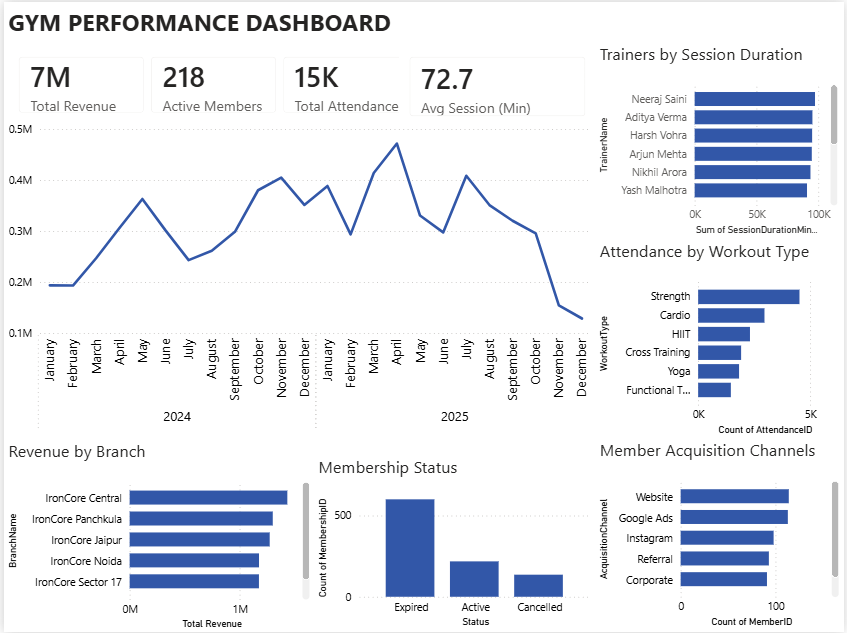

This screenshot's page, from the dashboard's own definition file:
{"tool":"powerbi","page":{"name":"Page 1","canvas":[960,720],"ordinal":0},"visuals":[{"type":"cardVisual","fields":{"Data":["tblAttendance.Total Revenue","tblAttendance.Active Members","tblAttendance.Total Attendance"]},"box":[0,46,479,98],"z":0},{"type":"lineChart","fields":{"Category":["tblCalendar.Year","tblCalendar.Month"],"Y":["tblAttendance.Total Revenue"]},"box":[0,132,676.3,367.2],"z":1000},{"type":"clusteredBarChart","title":"Revenue by Branch","fields":{"Category":["tblBranches.BranchName"],"Y":["tblAttendance.Total Revenue"]},"box":[0,499.8,354.3,221.6],"z":2000},{"type":"clusteredBarChart","title":"Attendance by Workout Type","fields":{"Category":["tblAttendance.WorkoutType"],"Y":["CountNonNull(tblAttendance.AttendanceID)"]},"box":[676.3,271.8,283.4,228],"z":3000},{"type":"clusteredColumnChart","title":"Membership Status","fields":{"Category":["tblMemberships.Status"],"Y":["CountNonNull(tblMemberships.MembershipID)"]},"box":[354.3,517.9,322.1,201],"z":4000},{"type":"clusteredBarChart","title":"Member Acquisition Channels","fields":{"Category":["tblMembers.AcquisitionChannel"],"Y":["CountNonNull(tblMembers.MemberID)"]},"box":[676.3,498.6,283.4,220.3],"z":5000},{"type":"clusteredColumnChart","title":"Payment Status","fields":{"Category":["tblPayments.PaymentStatus"],"Y":["CountNonNull(tblPayments.PaymentID)"]},"box":[1012.9,517.1,257.5,202.5],"z":6000},{"type":"slicer","fields":{"Values":["tblBranches.BranchName"]},"box":[1021.4,15.7,258.6,210],"z":7000},{"type":"slicer","fields":{"Values":["tblAttendance.WorkoutType"]},"box":[1021.4,242.9,258.6,211.4],"z":8000},{"type":"cardVisual","title":"Avg Session (Min)","fields":{"Data":["tblAttendance.Average Session Duration"]},"box":[450.9,46.4,225.4,97.9],"z":9000},{"type":"textbox","box":[0,0,498.6,59.3],"z":9002},{"type":"clusteredBarChart","title":"Trainers by Session Duration","fields":{"Category":["tblTrainers.TrainerName"],"Y":["Sum(tblAttendance.SessionDurationMinutes)"]},"box":[676,46,282.1,225.4],"z":9003}]}

Visuals, with their boxes in screenshot pixels (x1, y1, x2, y2), scaled from the page's 960x720 canvas onto the 847x633 screenshot:
cardVisual - tblAttendance.Total Revenue x tblAttendance.Active Members: BBox(0, 40, 423, 127)
lineChart - tblCalendar.Year x tblCalendar.Month: BBox(0, 116, 597, 439)
"Revenue by Branch" clusteredBarChart: BBox(0, 439, 313, 632)
"Attendance by Workout Type" clusteredBarChart: BBox(597, 239, 846, 439)
"Membership Status" clusteredColumnChart: BBox(313, 455, 597, 632)
"Member Acquisition Channels" clusteredBarChart: BBox(597, 438, 846, 632)
"Avg Session (Min)" cardVisual: BBox(398, 41, 597, 127)
textbox: BBox(0, 0, 440, 52)
"Trainers by Session Duration" clusteredBarChart: BBox(596, 40, 845, 239)
